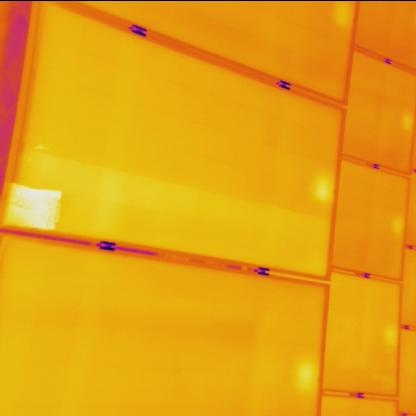hotspot: (6, 182, 64, 233)
